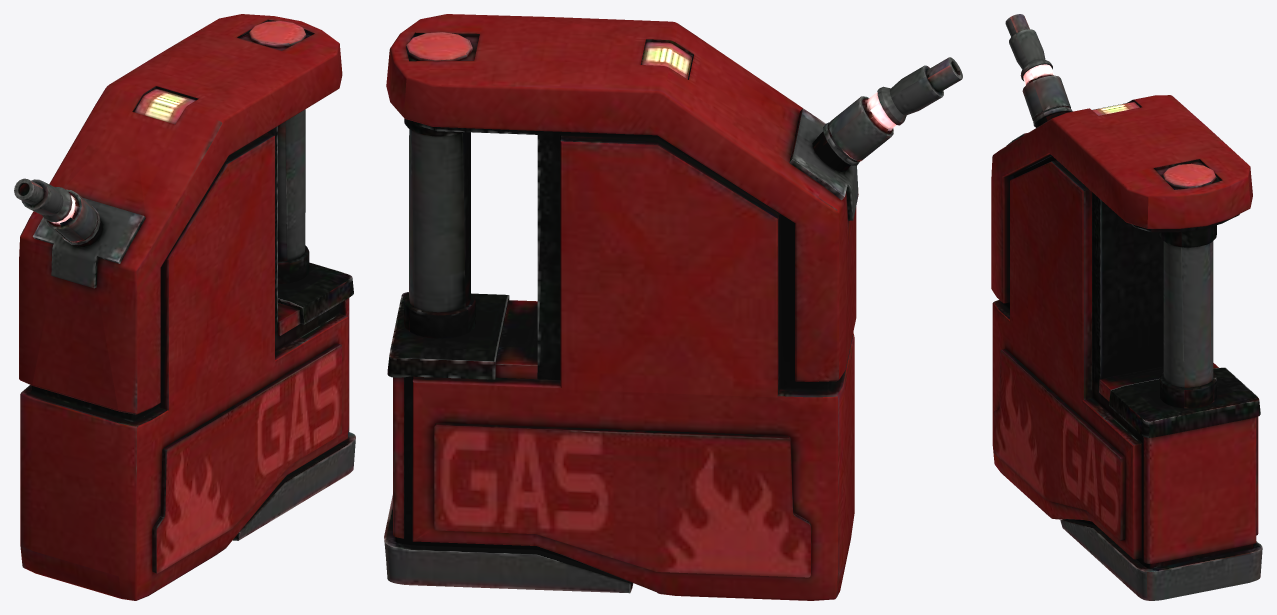
The model's file is item.fuel.gas_can.glb.
The picture shows the model from 3 angles, left to right: view 1: azimuth 30°, elevation 25°; view 2: azimuth 150°, elevation 25°; view 3: azimuth 270°, elevation 25°; orthographic projection. The views are drawn at different scales.
Parts seen in each view (by area): view 1: Cube; view 2: Cube; view 3: Cube.
Boxes of the visible parts, x1,y1,x2,y2 form: Cube: (14, 14, 355, 600); Cube: (384, 14, 962, 600); Cube: (991, 14, 1262, 600).
Size of the model in its own units: 1.1 by 1.13 by 0.6773.
Materials: 1 (1 with a texture image).
